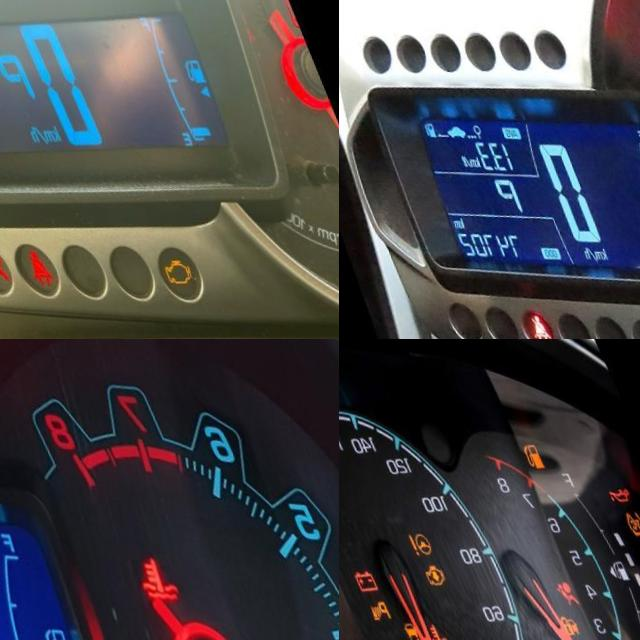Engine cooling system: (121, 540, 170, 593), (409, 607, 436, 637)
Low fuel level: (513, 422, 540, 455)
